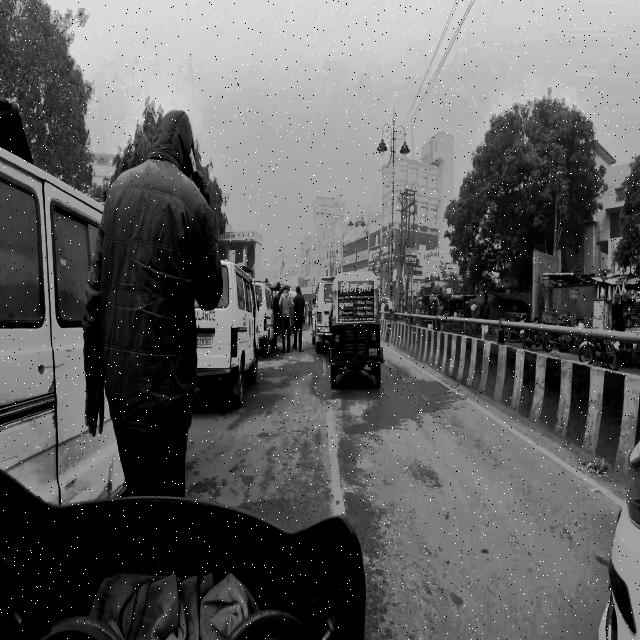Auto-Rickshaw: (328, 263, 392, 397)
LCV: (191, 255, 263, 417)
